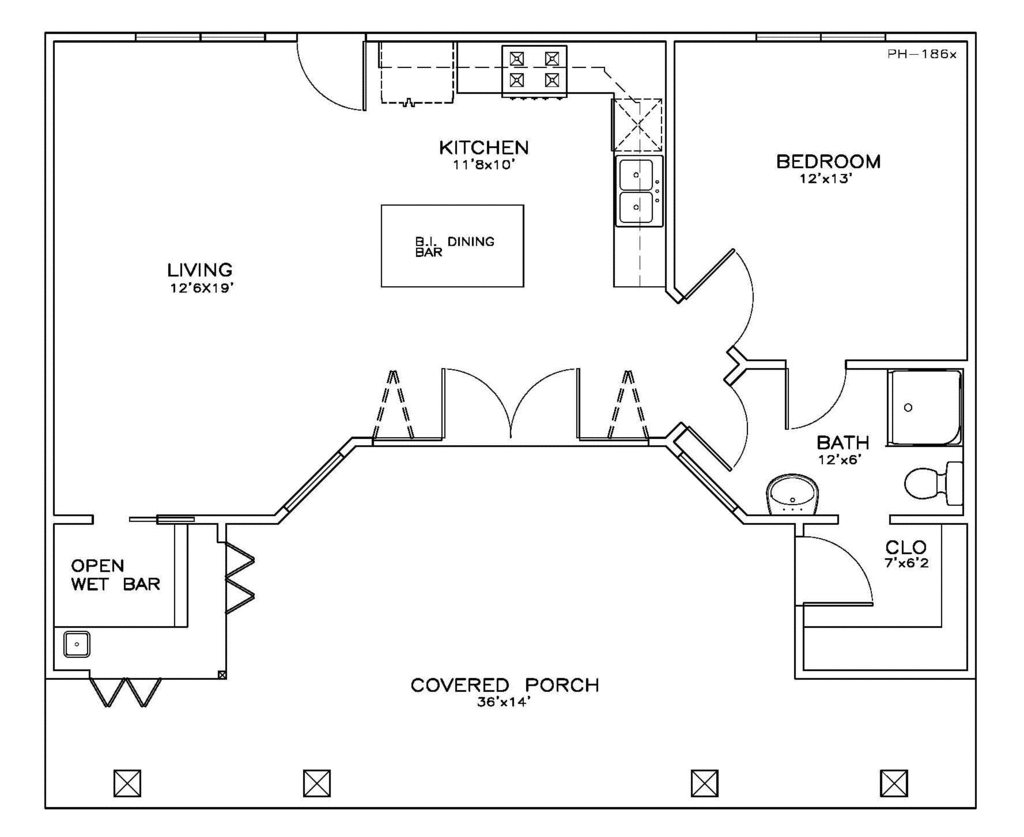door: (430, 360, 582, 442), (687, 237, 763, 351), (678, 374, 749, 471), (796, 533, 884, 608), (292, 31, 375, 110), (774, 365, 856, 438)
large_sink: (884, 447, 968, 510)
small_sink: (752, 461, 826, 517)
twin_sink: (612, 151, 663, 238)
window: (268, 440, 347, 521), (678, 447, 740, 519), (749, 26, 893, 50), (133, 28, 269, 41)
